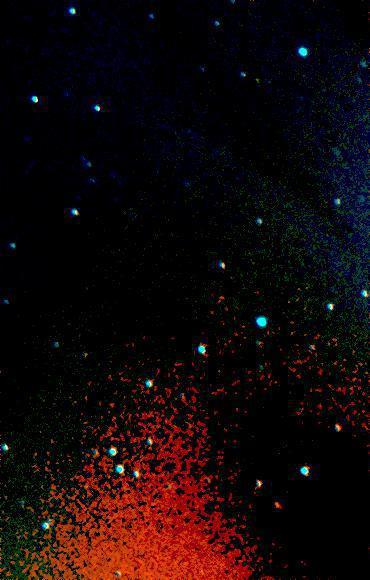star: (241, 66, 271, 96)
